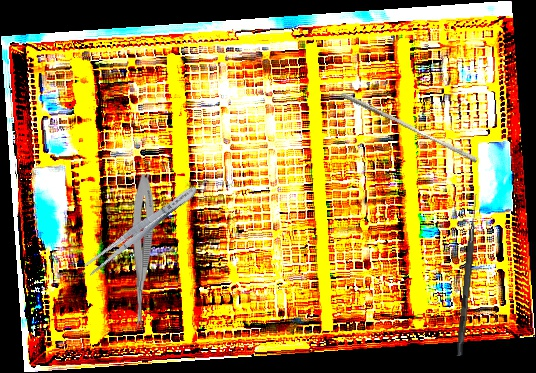Dressing Forceps: (81, 181, 202, 278)
Hook Surgical: (456, 193, 479, 357)
Micro Scissor: (130, 173, 156, 331)
Pusher: (337, 91, 481, 164)
